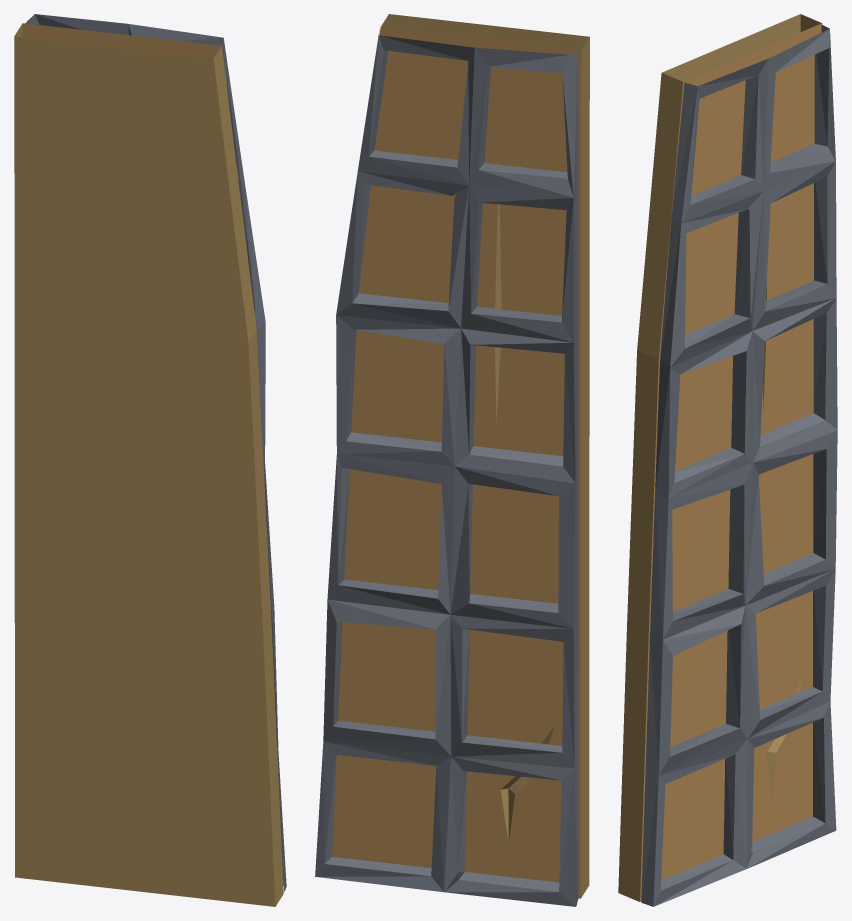
File: hades_door_left.glb
3 views of the same model, side by side, from view 1: azimuth 30°, elevation 25°; view 2: azimuth 210°, elevation 25°; view 3: azimuth 270°, elevation 25° (orthographic). The views are drawn at different scales.
Parts seen in each view (by area): view 1: Hades_DoorLeft; view 2: Hades_DoorLeft; view 3: Hades_DoorLeft.
Boxes of the visible parts, box(x1,y1,x2,y2) form: Hades_DoorLeft: box(14, 14, 286, 906); Hades_DoorLeft: box(315, 14, 589, 906); Hades_DoorLeft: box(618, 14, 837, 906).
Size of what is drawn, in the model's own units: 1.14 by 4.69 by 1.16.
1 material, 1 textured.
